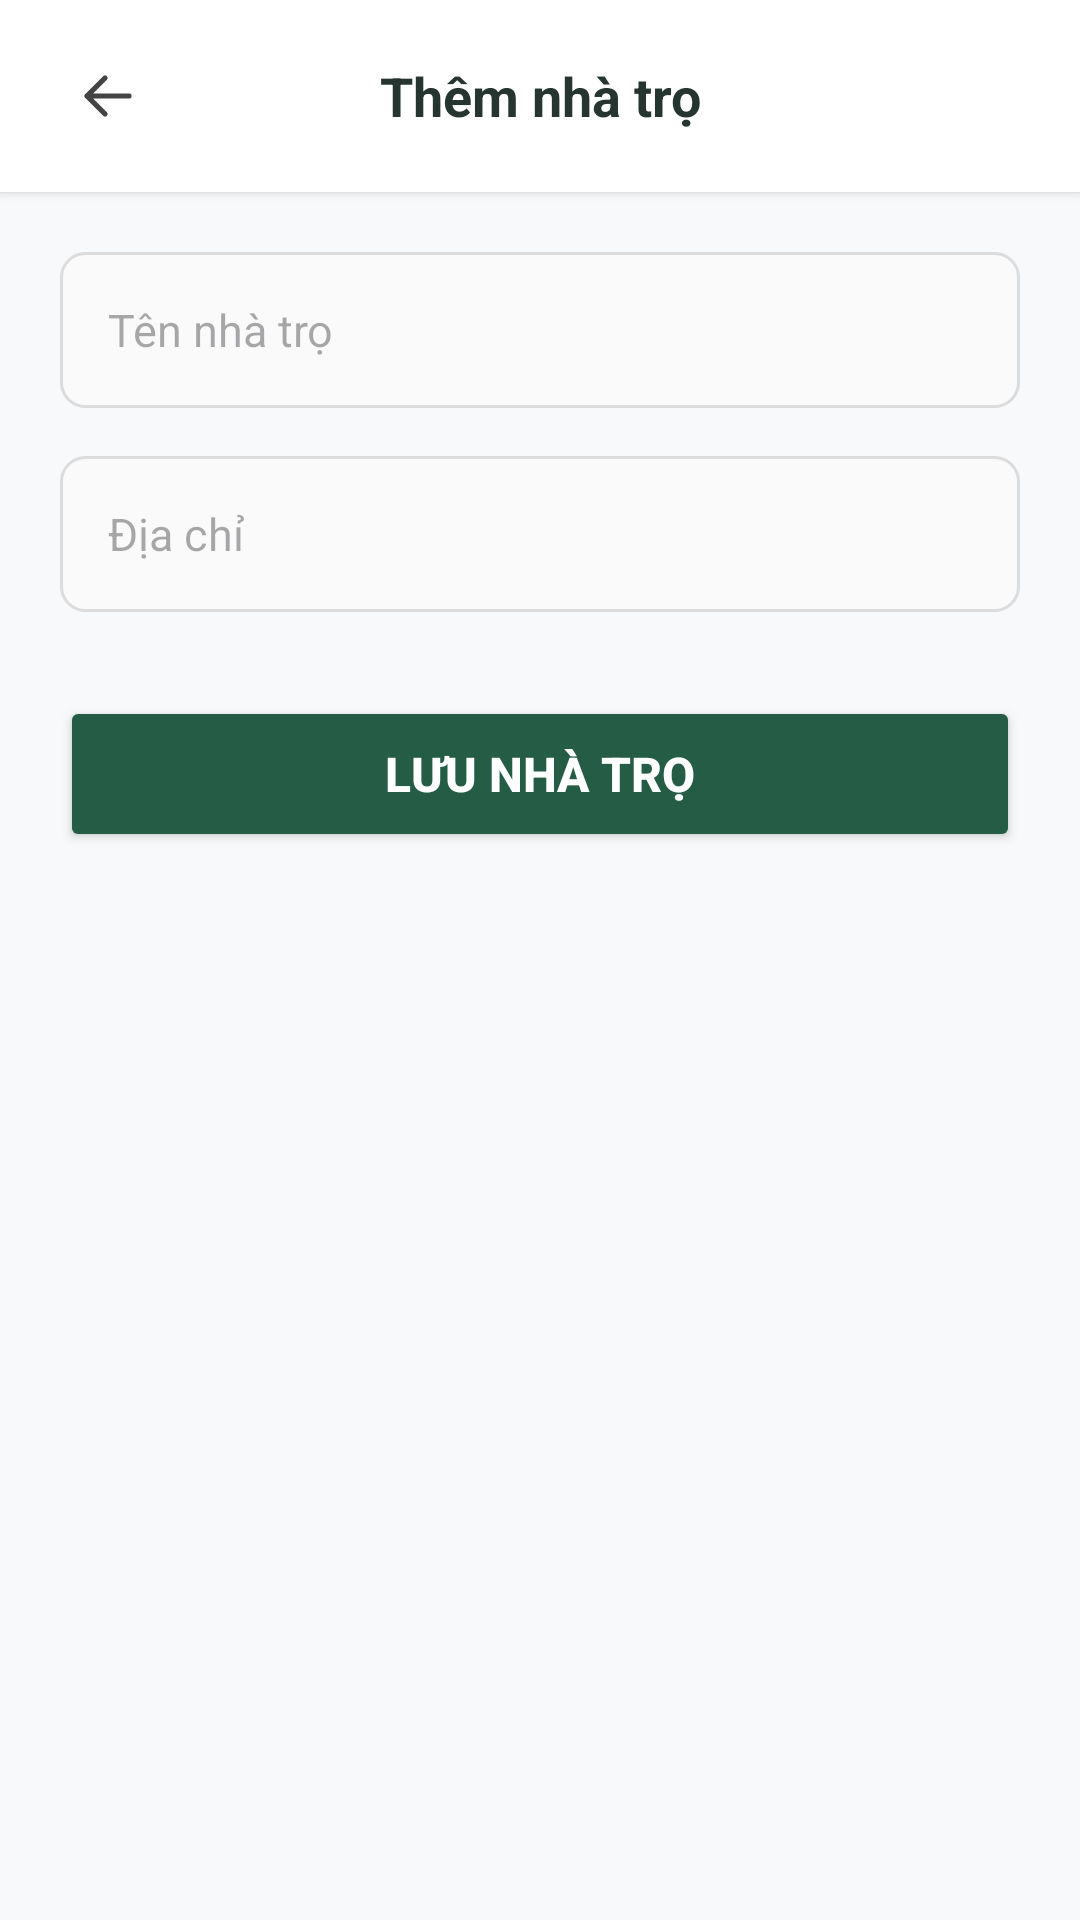

Point at icon controls on the screen. Image size 1080 × 1920, points as (x=x, y=y).
Quay lại: (x=108, y=96)
